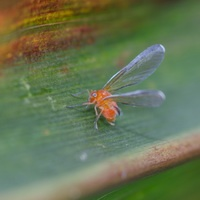insect: (67, 44, 164, 128)
